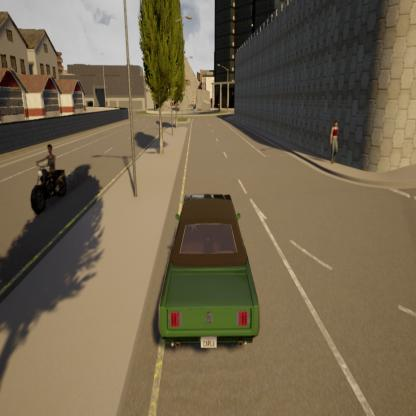Cars: (158, 191, 268, 360)
Pedestrian: (329, 118, 344, 173)
